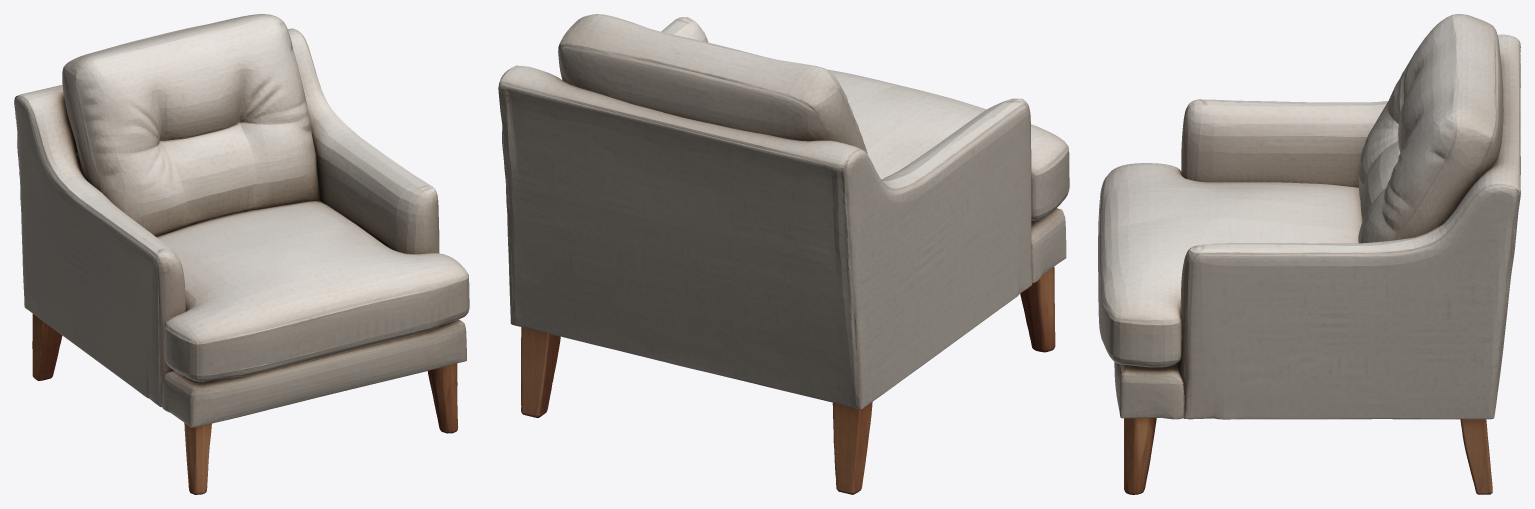
The model's file is trellis_generated_b93a8a6a.glb.
3 views of the same model, side by side, from view 1: azimuth 30°, elevation 25°; view 2: azimuth 150°, elevation 25°; view 3: azimuth 270°, elevation 25° (orthographic). The views are drawn at different scales.
Visible parts, largest first — view 1: world; view 2: world; view 3: world.
Part boxes in pixels (<box>): world: <box>14,14,469,494</box>; world: <box>498,14,1069,494</box>; world: <box>1098,14,1520,494</box>.
Bounding box in the file's own units: 0.8825 × 0.9349 × 0.999.
Materials: 1 (1 with a texture image).
